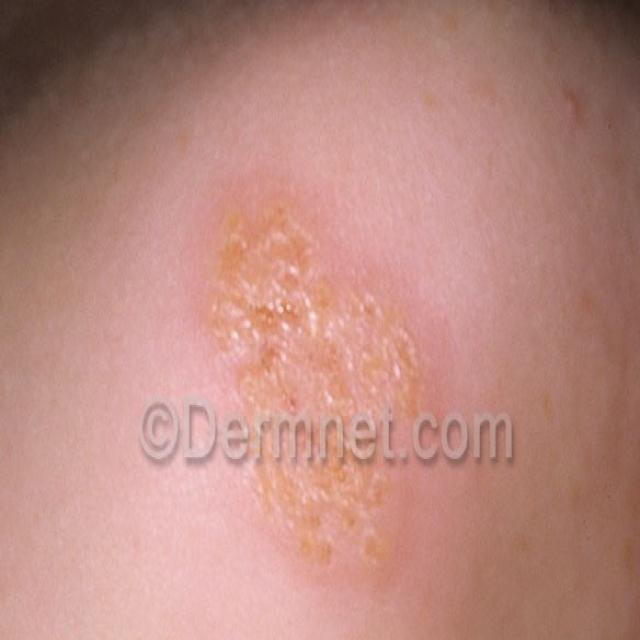Viral Infections: (192, 184, 427, 589)
